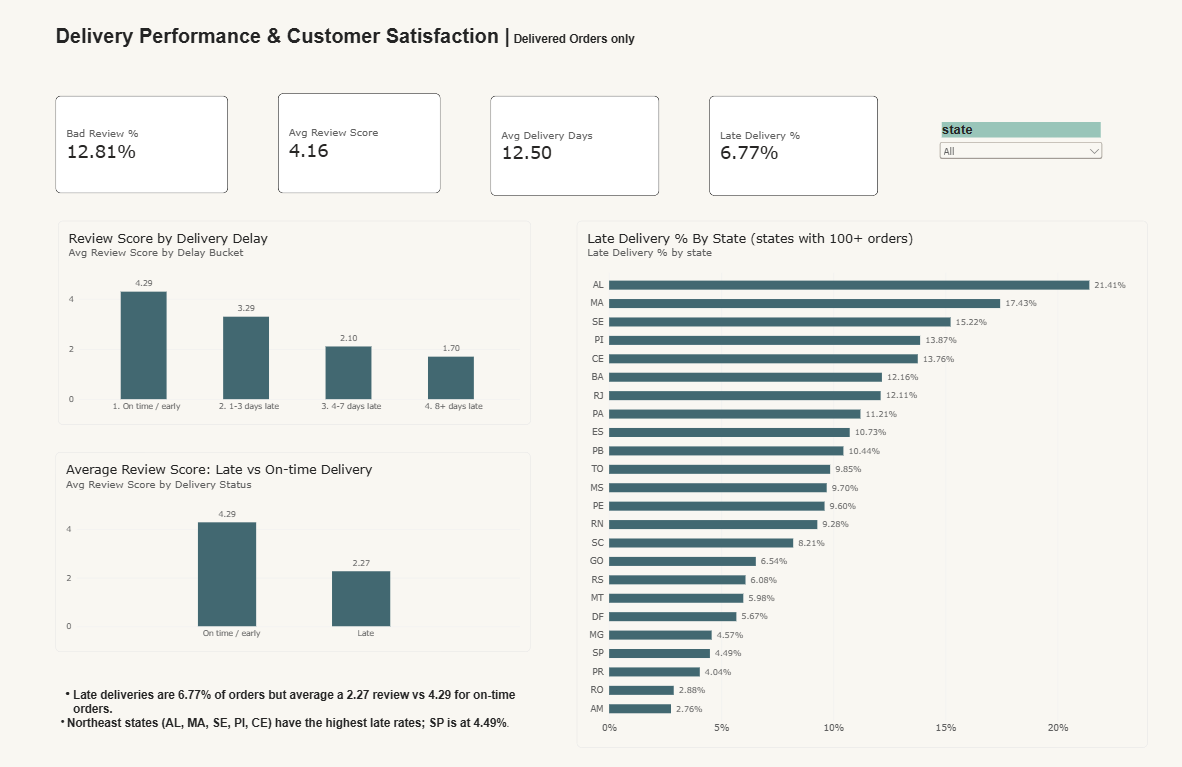

Layout of this report page (visuals, bound fields, positions):
{"tool":"powerbi","page":{"name":"Delivery & Satisfaction","canvas":[1920,1300],"ordinal":2},"visuals":[{"type":"textbox","box":[100,60,977.5,62.5],"z":0},{"type":"cardVisual","fields":{"Data":["Olist_Measures (2).Late Delivery %"]},"box":[1146.7,173.3,270,160],"z":1000},{"type":"cardVisual","fields":{"Data":["Olist_Measures (2).Avg Delivery Days"]},"box":[796.7,173.3,270,160],"z":2000},{"type":"cardVisual","fields":{"Data":["Olist_Measures (2).Avg Review Score"]},"box":[456.7,170,260,160],"z":3000},{"type":"cardVisual","fields":{"Data":["Olist_Measures (2).Bad Review %"]},"box":[100,173.3,276.7,156.7],"z":4000},{"type":"clusteredColumnChart","title":"Average Review Score: Late vs On-time Delivery","fields":{"Category":["analytics fact_orders.Delivery Status"],"Y":["Olist_Measures (2).Avg Review Score"]},"box":[100,743.3,760,320],"z":5000},{"type":"clusteredColumnChart","title":"Review Score by Delivery Delay","fields":{"Category":["analytics fact_orders.Delay Bucket"],"Y":["Olist_Measures (2).Avg Review Score"]},"box":[103.3,373.3,756.7,326.7],"z":6000},{"type":"clusteredBarChart","title":"Late Delivery % By State (states with 100+ orders)","fields":{"Category":["analytics dim_customers.state"],"Y":["Olist_Measures (2).Late Delivery %"]},"box":[933.3,373.3,913.3,843.3],"z":7000},{"type":"slicer","fields":{"Values":["analytics dim_customers.state"]},"box":[1510,216,270,68],"z":8000},{"type":"textbox","box":[100,1120,760,96.7],"z":9000}]}

Visuals, with their boxes on the page's 1920x1300 design canvas (x1, y1, x2, y2). These are canvas units, not pixel positions in the 1182x767 screenshot, which may show the page scaled, cropped or inside an application window:
textbox: locate(100, 60, 1078, 122)
cardVisual - Olist_Measures (2).Late Delivery %: locate(1147, 173, 1417, 333)
cardVisual - Olist_Measures (2).Avg Delivery Days: locate(797, 173, 1067, 333)
cardVisual - Olist_Measures (2).Avg Review Score: locate(457, 170, 717, 330)
cardVisual - Olist_Measures (2).Bad Review %: locate(100, 173, 377, 330)
"Average Review Score: Late vs On-time Delivery" clusteredColumnChart: locate(100, 743, 860, 1063)
"Review Score by Delivery Delay" clusteredColumnChart: locate(103, 373, 860, 700)
"Late Delivery % By State (states with 100+ orders)" clusteredBarChart: locate(933, 373, 1847, 1217)
slicer - analytics dim_customers.state: locate(1510, 216, 1780, 284)
textbox: locate(100, 1120, 860, 1217)
